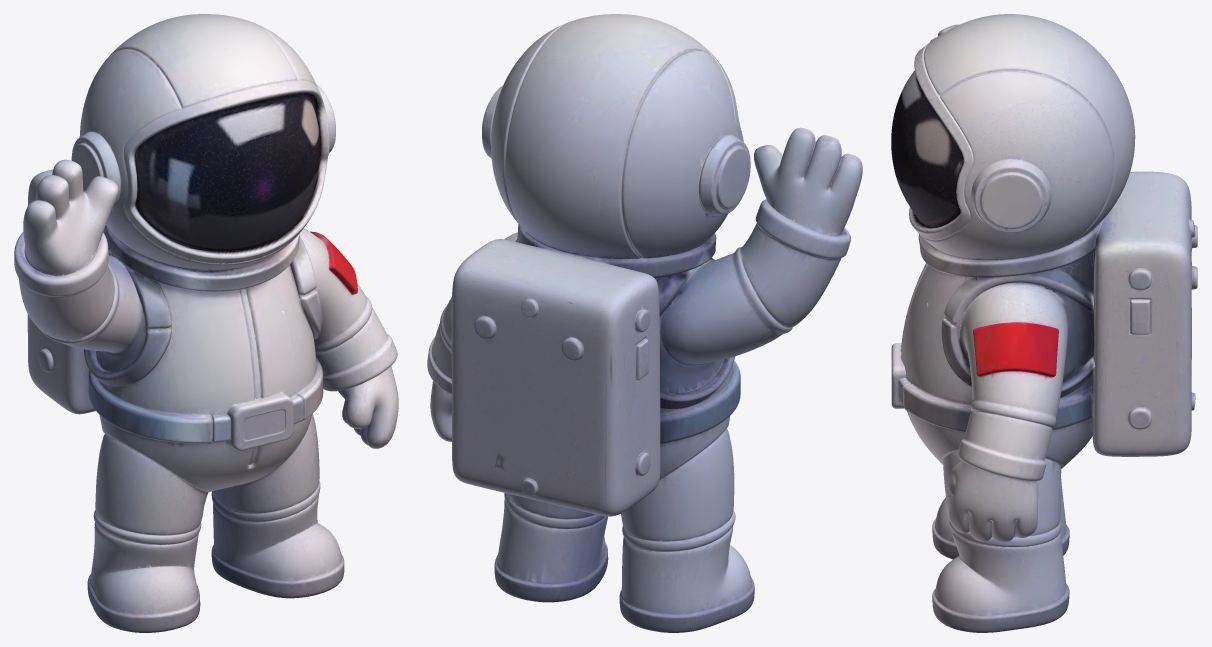
File: space man.glb
The picture shows the model from 3 angles, left to right: view 1: azimuth 30°, elevation 25°; view 2: azimuth 150°, elevation 25°; view 3: azimuth 270°, elevation 25°; orthographic projection. The views are drawn at different scales.
Parts seen in each view (by area): view 1: node_0; view 2: node_0; view 3: node_0.
Boxes of the visible parts, <box> form: node_0: <box>14,14,398,632</box>; node_0: <box>427,14,862,632</box>; node_0: <box>891,14,1197,632</box>.
Bounding box in the file's own units: 0.7784 × 1.06 × 0.5352.
Materials: 1 (1 with a texture image).
